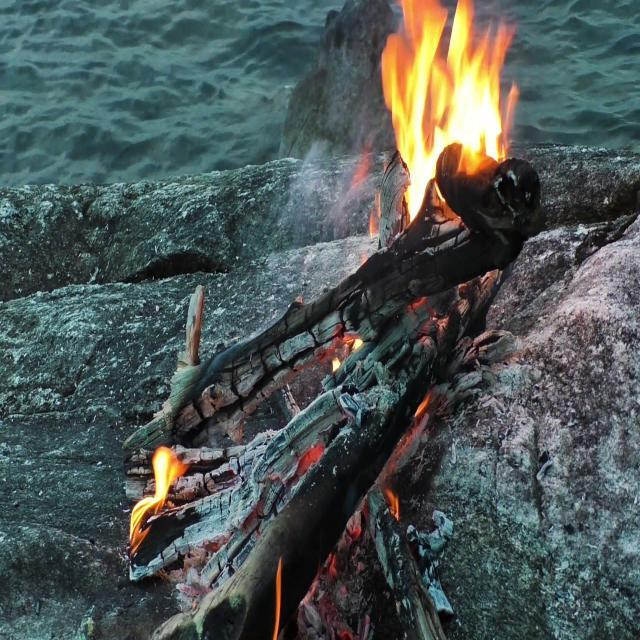Fire: (383, 0, 518, 205), (127, 438, 177, 554)
